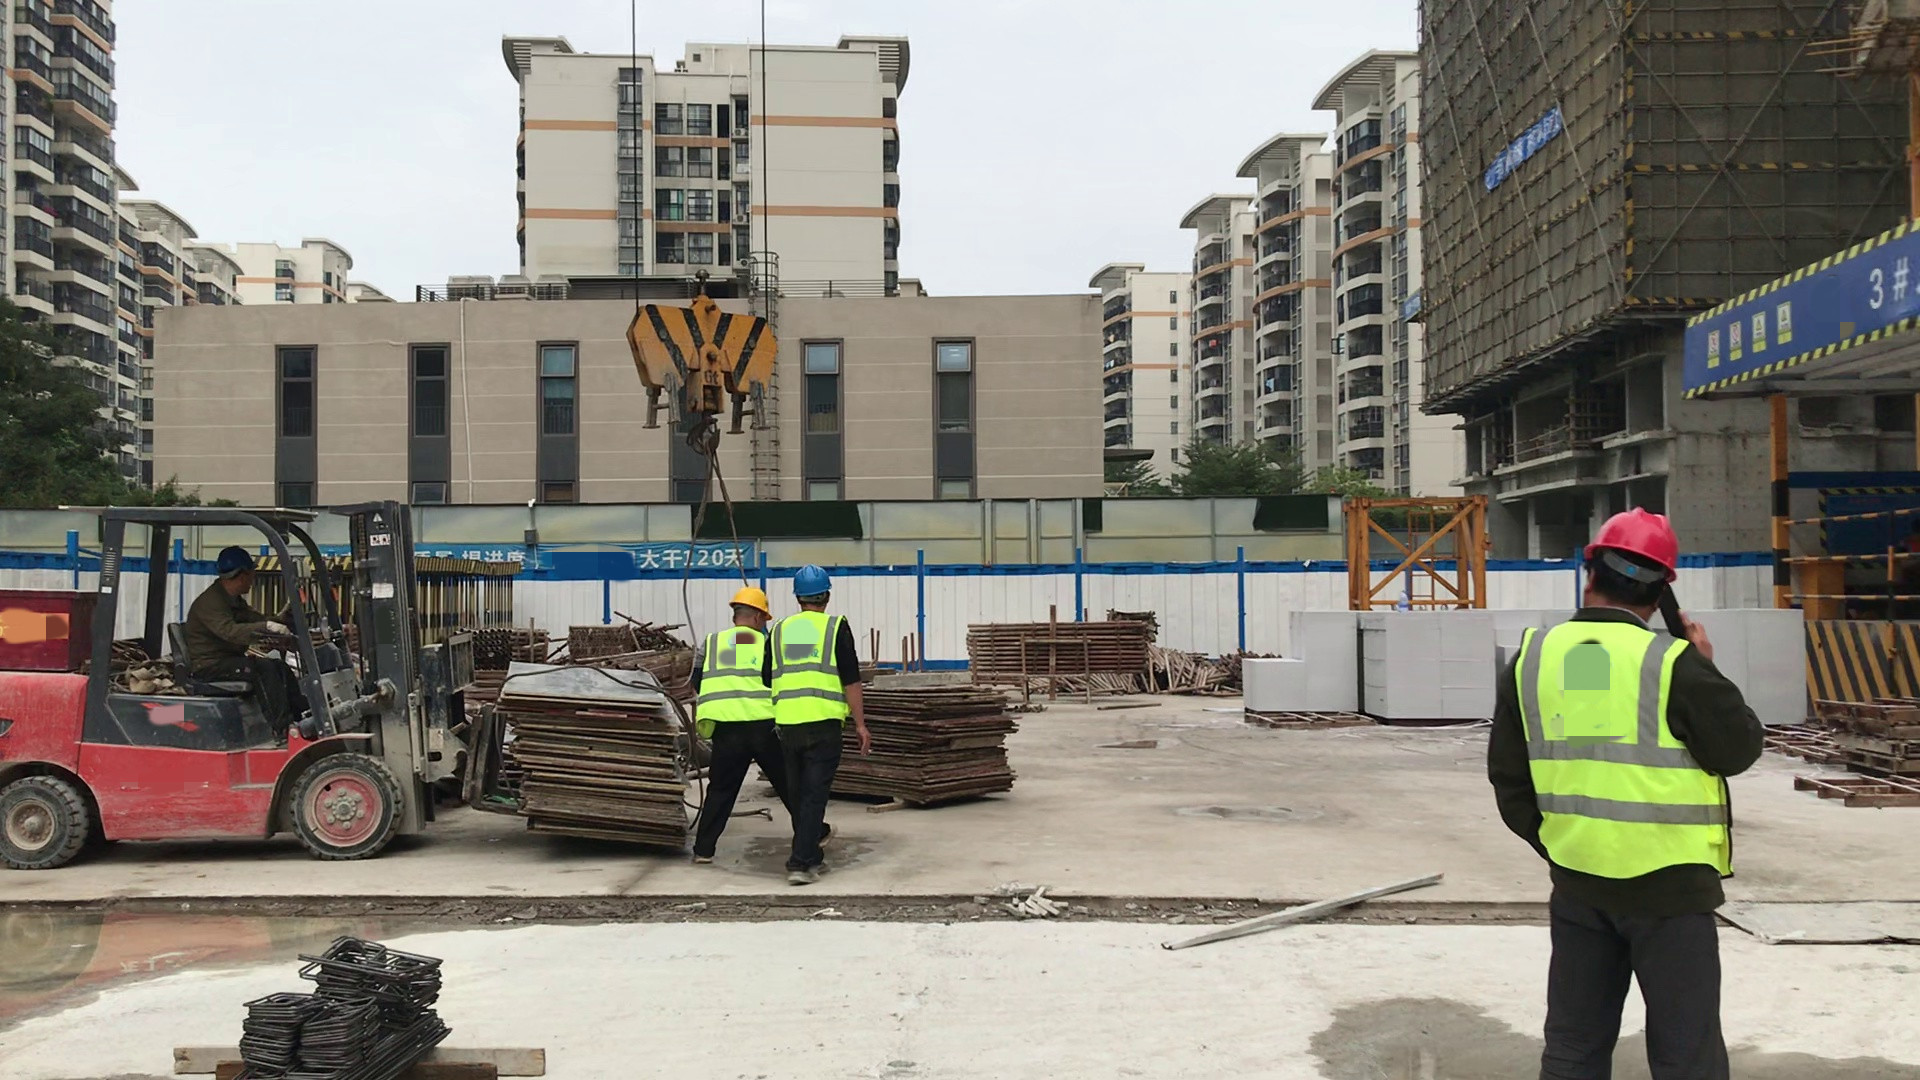board: (492, 647, 706, 858), (790, 662, 1041, 824)
brick: (1221, 587, 1830, 787)
fence: (1772, 508, 1920, 620)
helmet: (1559, 480, 1698, 583), (205, 537, 264, 590), (718, 579, 779, 622), (789, 563, 847, 608)
hook: (599, 258, 823, 468)
person: (1489, 483, 1781, 1080), (770, 560, 906, 901), (694, 564, 788, 870), (183, 533, 312, 745)
scaffold: (961, 595, 1179, 709)
slogan: (1677, 218, 1920, 407), (310, 544, 769, 591), (1471, 103, 1577, 201), (1384, 287, 1429, 324)
vest: (1512, 616, 1751, 892), (769, 605, 855, 738), (693, 621, 773, 735)
